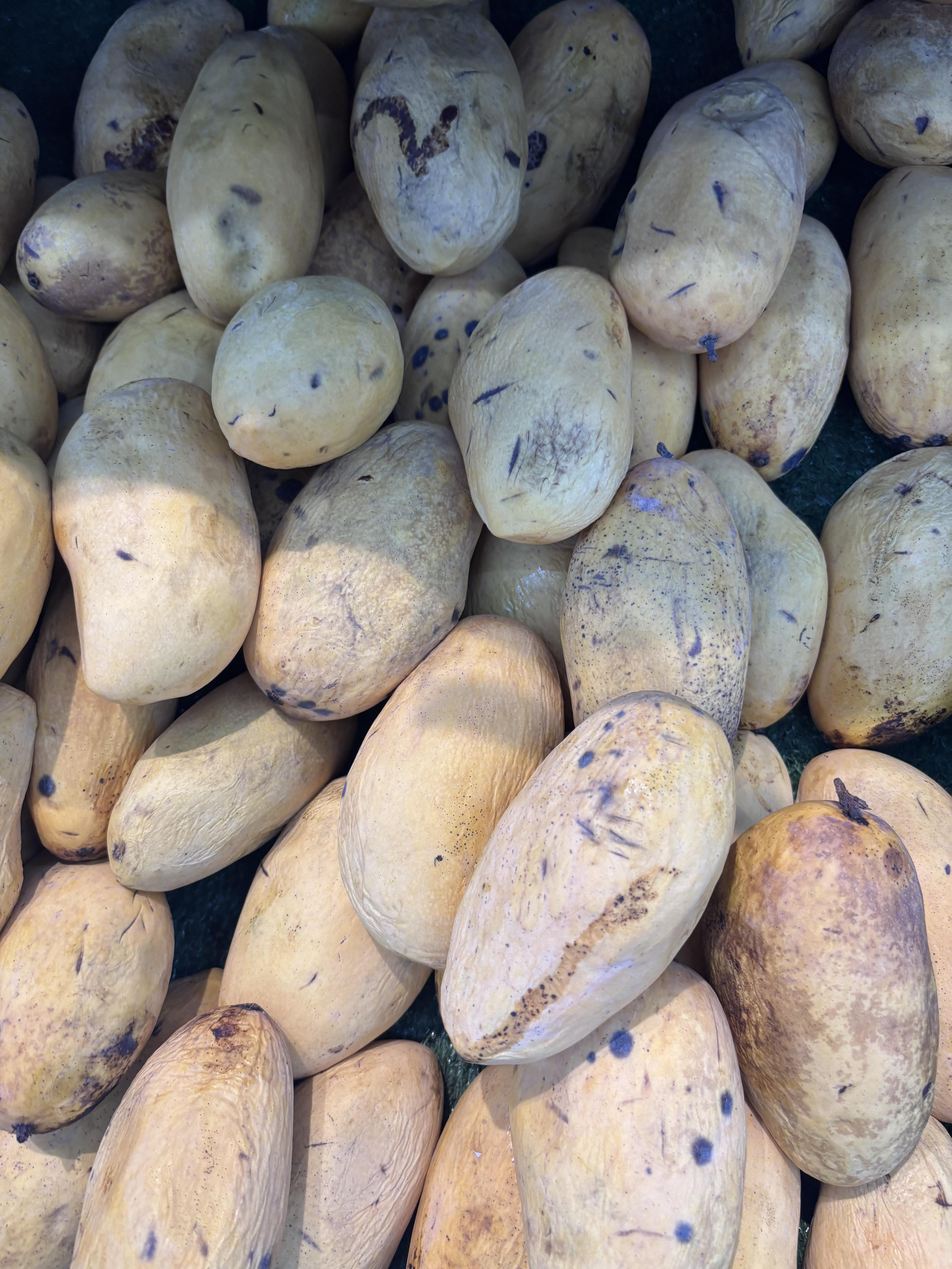mango: (440, 690, 735, 1064), (702, 792, 938, 1186), (52, 379, 261, 705), (610, 79, 806, 361), (449, 267, 633, 544), (351, 6, 527, 275), (211, 276, 403, 468)
occluded: (338, 616, 563, 970), (510, 963, 746, 1269), (244, 421, 482, 720), (0, 968, 222, 1269), (219, 778, 430, 1079), (72, 1004, 293, 1269), (798, 749, 952, 1122), (108, 673, 356, 891), (561, 457, 751, 741), (0, 855, 174, 1143), (167, 32, 324, 322), (808, 449, 952, 747), (26, 580, 177, 862), (700, 215, 851, 481), (685, 449, 827, 729), (505, 0, 651, 266), (276, 1040, 443, 1269), (74, 0, 244, 177), (848, 166, 952, 448), (637, 59, 839, 197), (16, 172, 182, 322), (406, 1066, 528, 1269), (396, 248, 526, 425), (464, 527, 575, 730), (804, 1118, 952, 1269), (828, 0, 952, 167), (307, 172, 429, 341), (85, 290, 224, 410), (263, 25, 352, 195), (3, 261, 107, 398), (0, 428, 54, 677), (730, 1102, 800, 1269), (0, 285, 58, 461), (629, 325, 697, 466), (0, 683, 37, 929), (733, 0, 864, 67), (0, 88, 39, 274), (732, 731, 793, 840), (268, 0, 372, 51), (558, 227, 612, 280)
